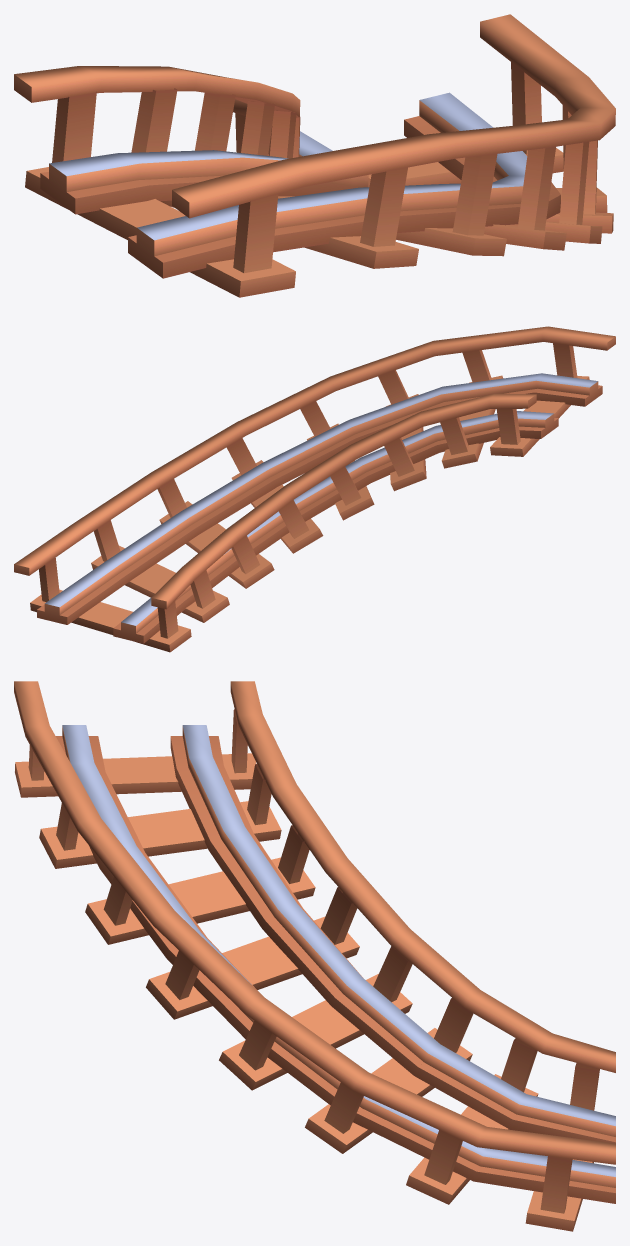
The model's file is coaster-wood-corner-small-ramp.glb.
The picture shows the model from 3 angles, top to bottom: view 1: azimuth 30°, elevation 25°; view 2: azimuth 150°, elevation 25°; view 3: azimuth 270°, elevation 25°; orthographic projection. The views are drawn at different scales.
Parts seen in each view (by area): view 1: coaster-wood-corner-small-ramp; view 2: coaster-wood-corner-small-ramp; view 3: coaster-wood-corner-small-ramp.
Part boxes in pixels (bbox=[...]): coaster-wood-corner-small-ramp: bbox=[14, 14, 615, 297]; coaster-wood-corner-small-ramp: bbox=[14, 326, 615, 652]; coaster-wood-corner-small-ramp: bbox=[14, 681, 615, 1231].
Size of the model in its own units: 2.5 by 1.36 by 2.5.
Materials: 1 (1 with a texture image).
